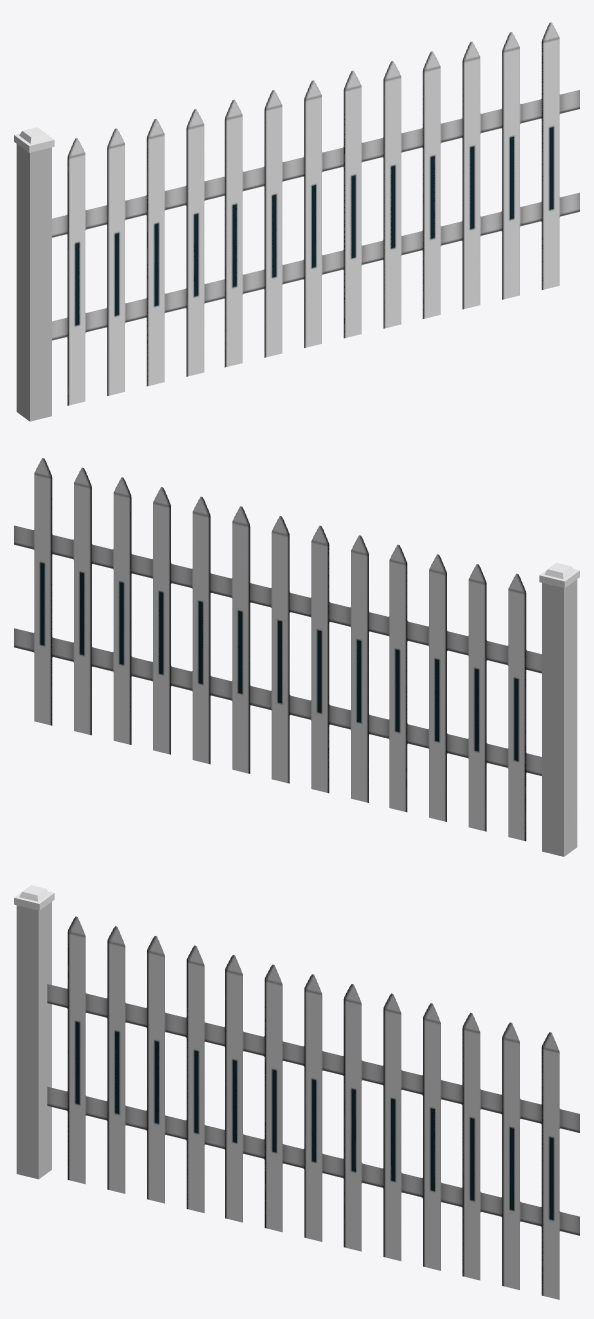
Rendered from enclosure.gltf.
3 views of the same model, one above another, from view 1: azimuth 30°, elevation 25°; view 2: azimuth 150°, elevation 25°; view 3: azimuth 330°, elevation 25° (orthographic).
Visible parts, largest first — view 1: Lo-绿化带围栏_01; view 2: Lo-绿化带围栏_01; view 3: Lo-绿化带围栏_01.
Part boxes in pixels (x1=…): Lo-绿化带围栏_01: x1=14, y1=22, x2=579, y2=421; Lo-绿化带围栏_01: x1=14, y1=458, x2=579, y2=856; Lo-绿化带围栏_01: x1=14, y1=885, x2=579, y2=1299.
Size of the model in its own units: 2.64 by 1.27 by 0.1246.
2 materials, 2 textured.
